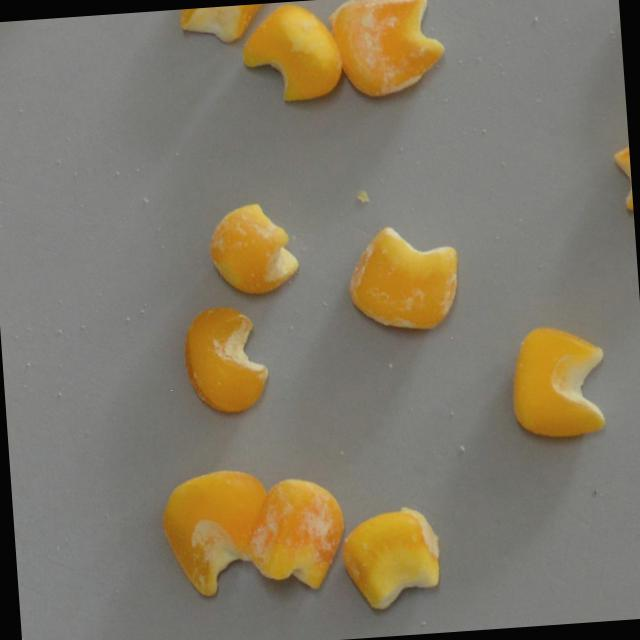no_canjicado: (507, 321, 608, 439), (238, 0, 343, 107), (182, 305, 272, 419)
pelicula: (160, 468, 270, 600), (346, 220, 463, 338), (242, 475, 347, 594), (328, 0, 447, 100), (341, 502, 442, 612), (204, 199, 301, 297), (176, 2, 278, 47), (611, 127, 633, 212)
